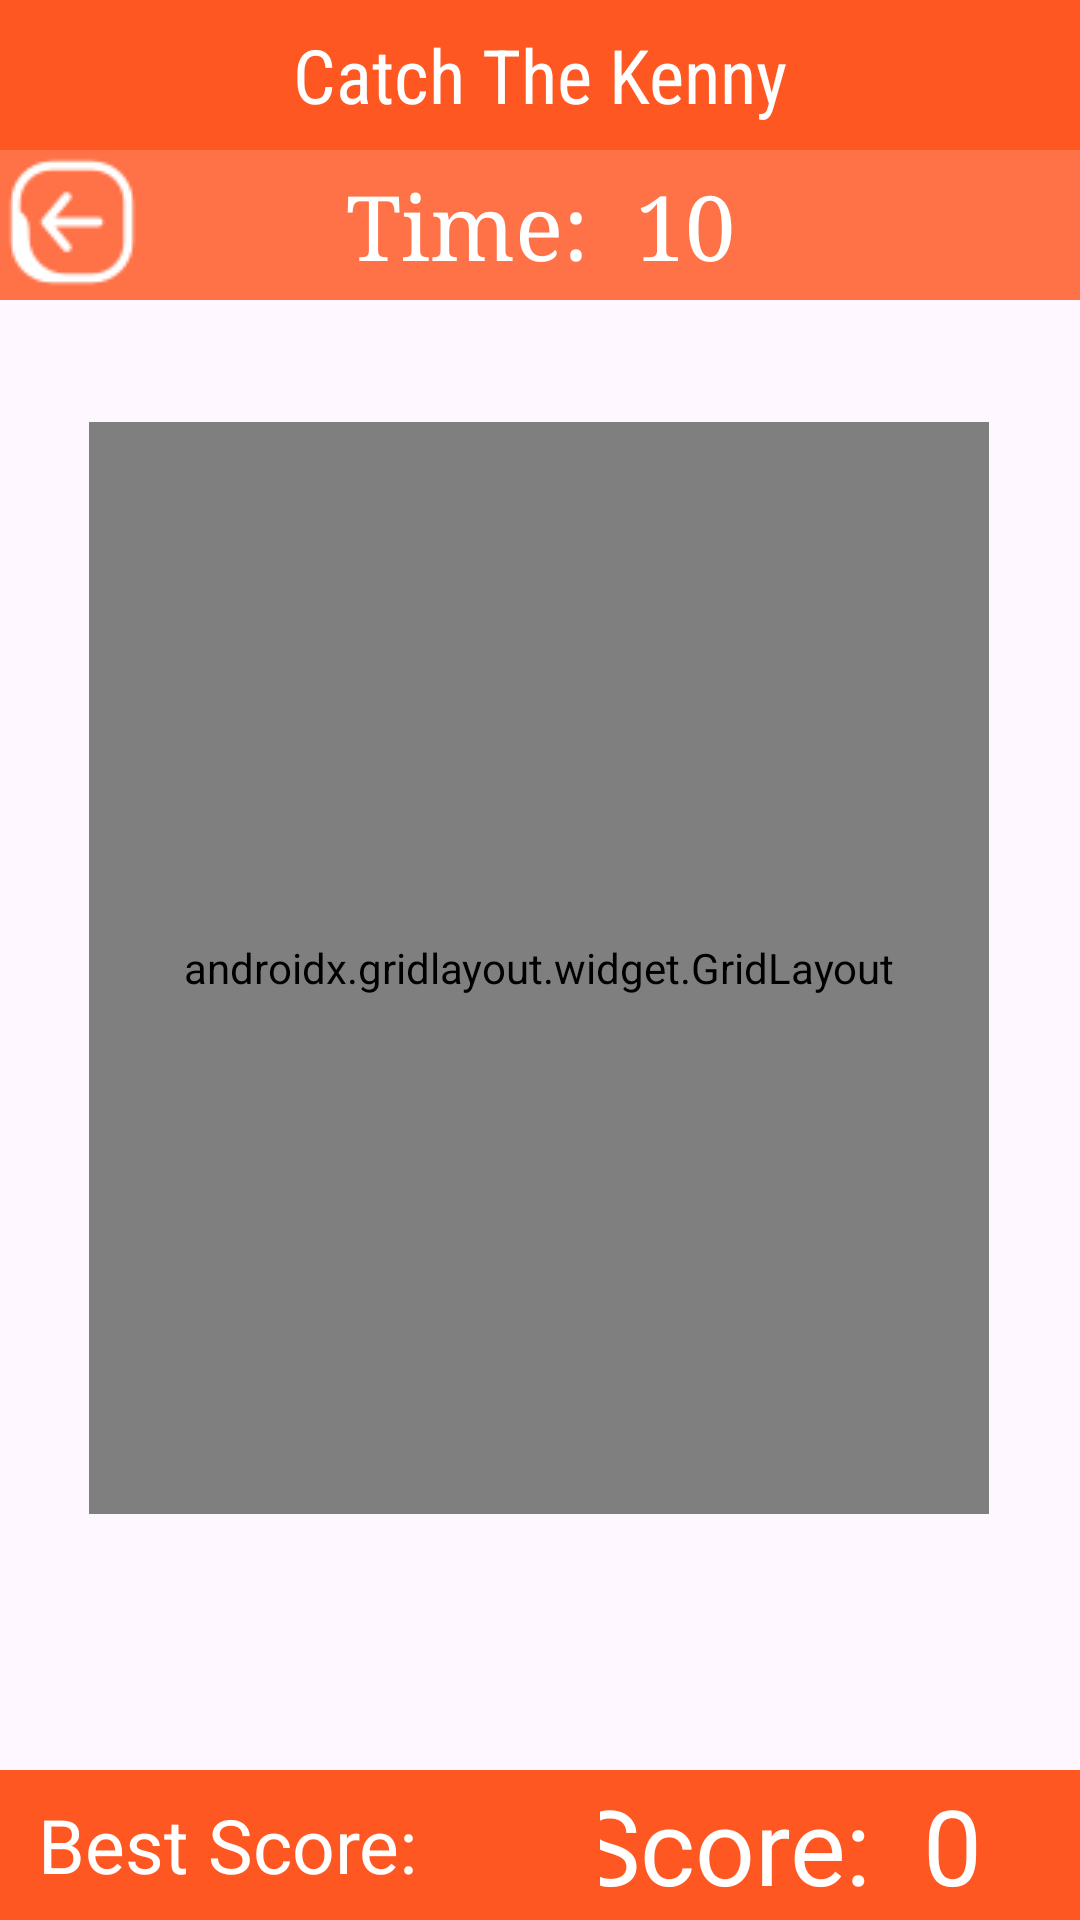

Screen size 1080px×1920px. Icon name, then its box in pixels as (x1, y1, x2, y2):
back: (9, 159, 135, 285)
